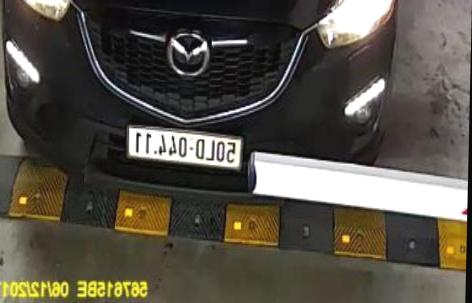License_Plate: (123, 120, 243, 172)
